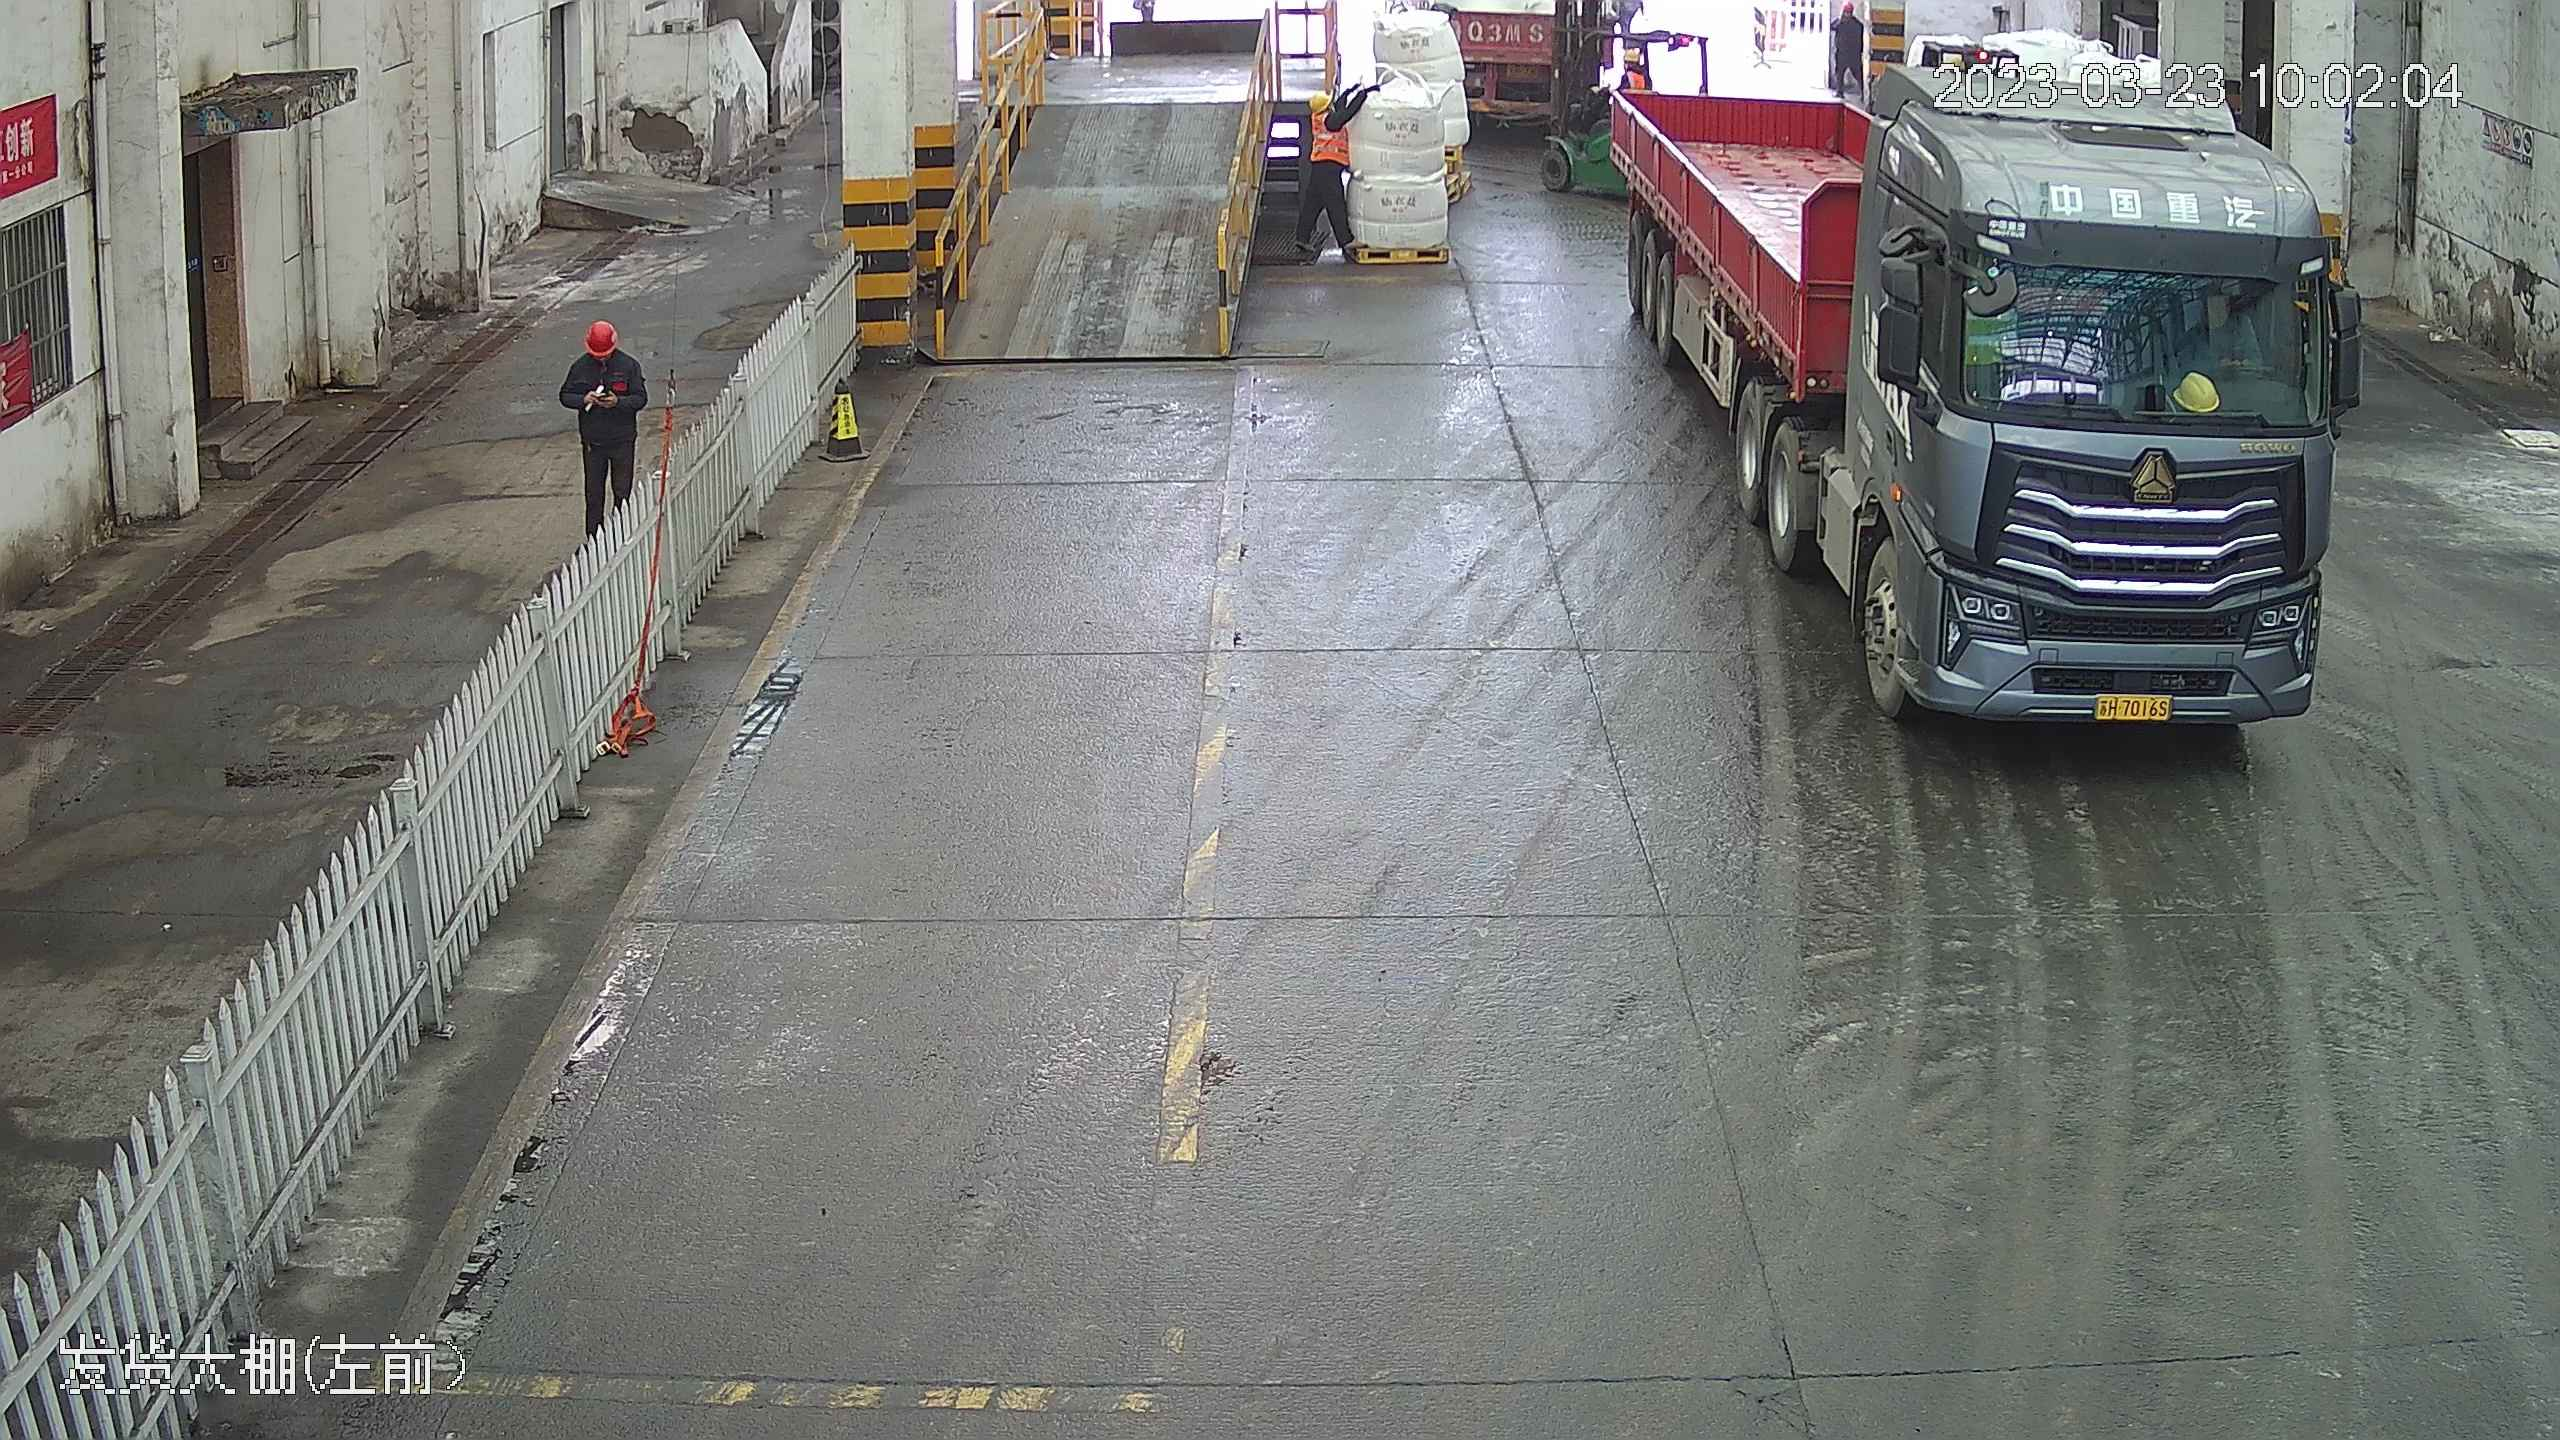head: (567, 317, 639, 386), (1301, 89, 1343, 143)
helmet: (582, 319, 618, 347), (1309, 89, 1334, 112)
people: (562, 313, 645, 541), (1297, 78, 1352, 258)
truck: (1613, 24, 2373, 746), (1449, 5, 1588, 127)
